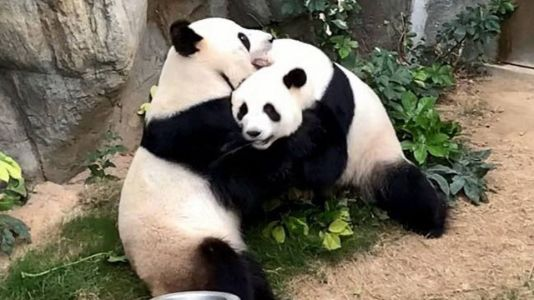bear: (127, 12, 286, 286), (234, 67, 451, 239)
